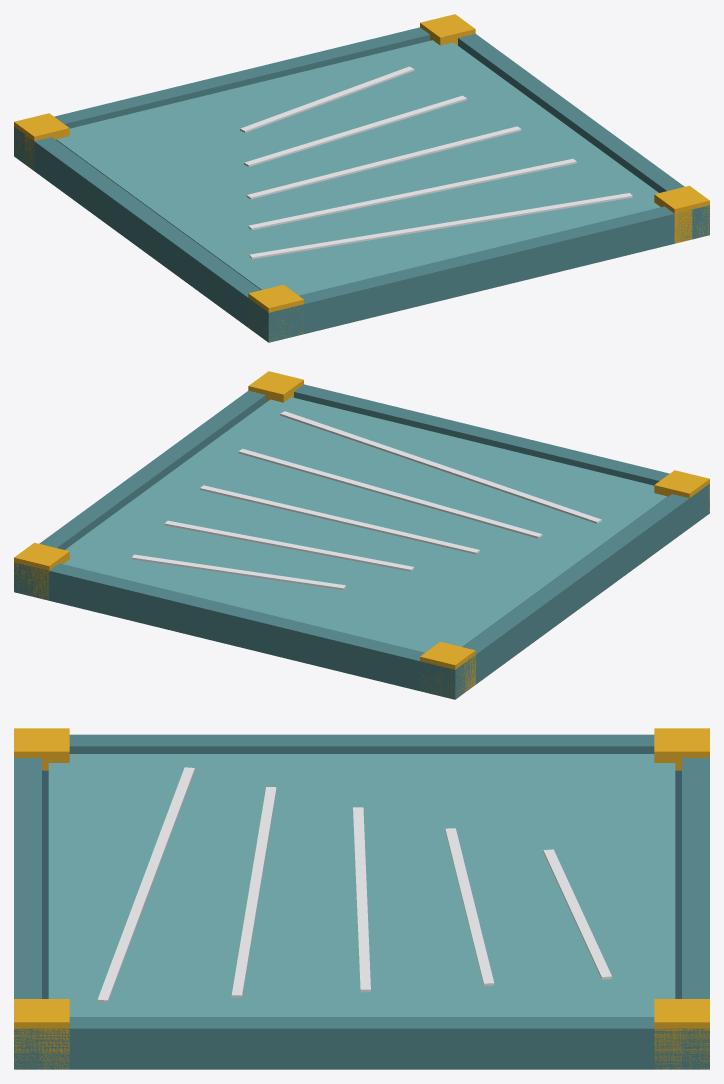
File: ice_slide.glb
The picture shows the model from 3 angles, top to bottom: view 1: azimuth 30°, elevation 25°; view 2: azimuth 150°, elevation 25°; view 3: azimuth 270°, elevation 25°; orthographic projection. The views are drawn at different scales.
Parts seen in each view (by area): view 1: ice_slide; view 2: ice_slide; view 3: ice_slide.
Part boxes in pixels (x1,y1,x2,y2): ice_slide: [14, 14, 709, 342]; ice_slide: [14, 371, 709, 699]; ice_slide: [14, 728, 709, 1069].
Bounding box in the file's own units: 2 × 0.15 × 2.
